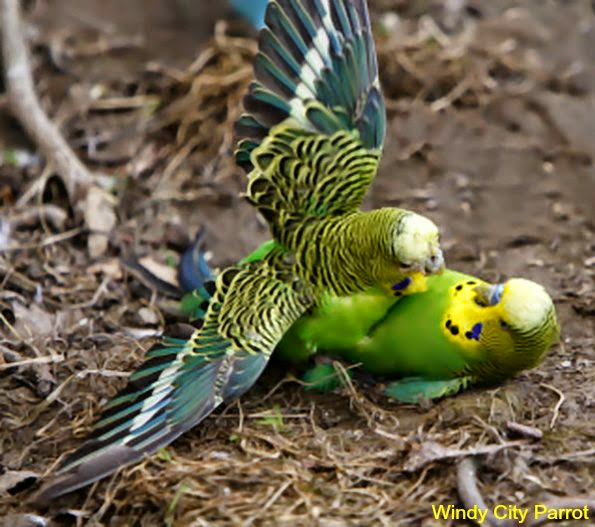budgie: (41, 1, 446, 499), (426, 278, 563, 383)
